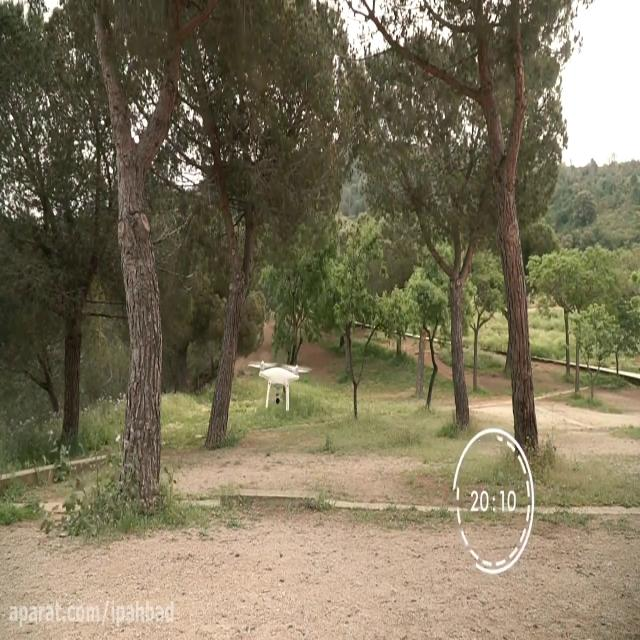drone: (246, 356, 314, 414)
